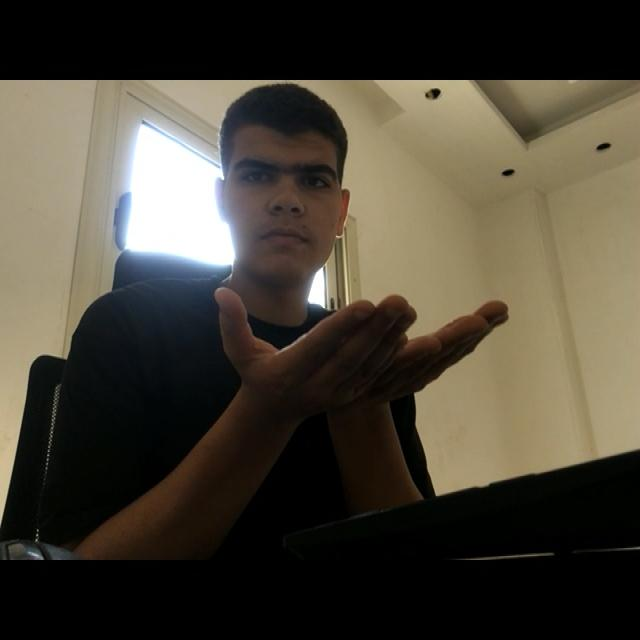Thanks: (175, 253, 539, 440)
